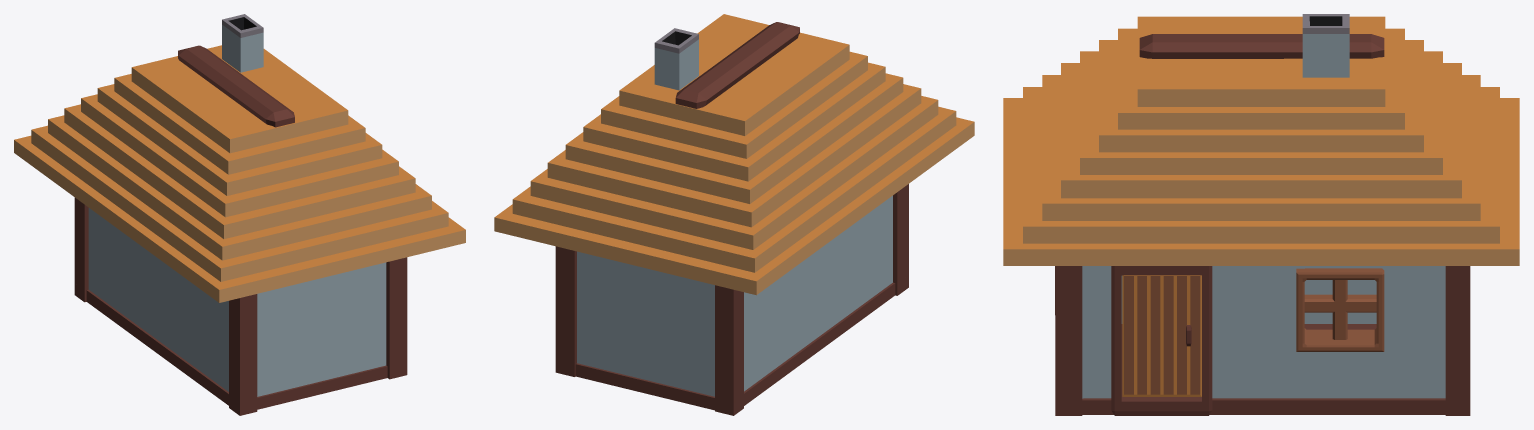
File: kurin_FBX.fbx
3 views of the same model, side by side, from view 1: azimuth 30°, elevation 25°; view 2: azimuth 150°, elevation 25°; view 3: azimuth 270°, elevation 25° (orthographic). The views are drawn at different scales.
Visible parts, largest first — view 1: roof.001; view 2: roof.001; view 3: roof.001, door.001.
Part boxes in pixels (x1,y1,x2,y2): roof.001: (14,14,465,415); roof.001: (494,14,974,415); roof.001: (1003,14,1519,415); door.001: (1122,275,1201,396).
Bounding box in the file's own units: 375 × 417 × 541.
